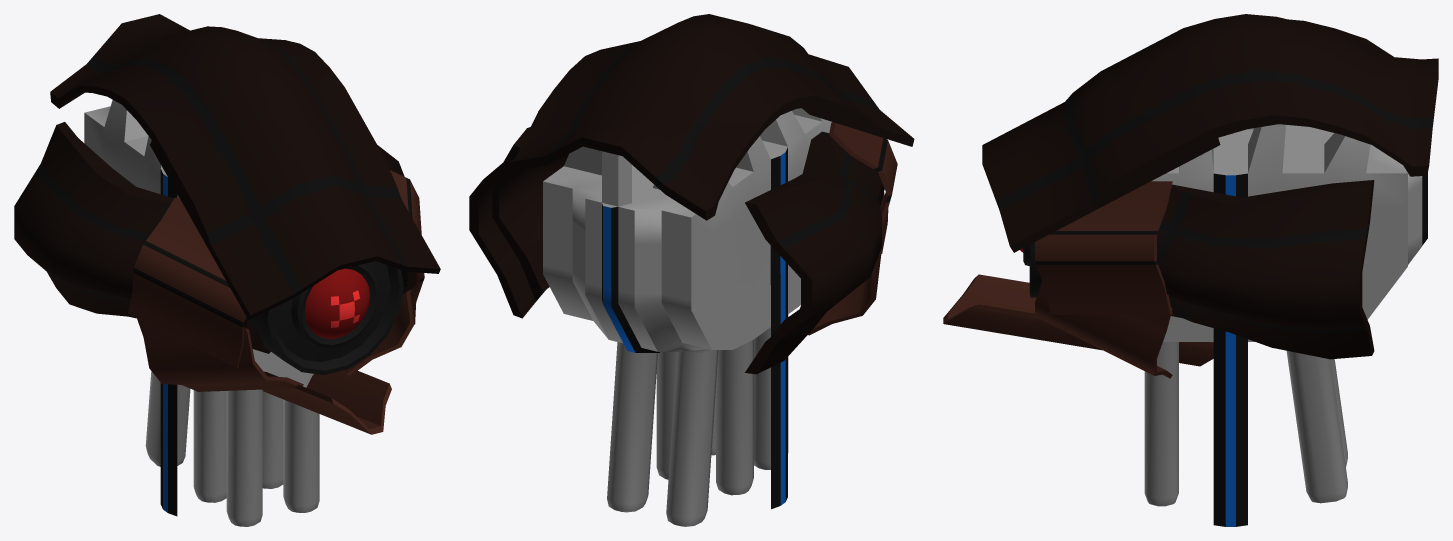
The model's file is CabezaEnemigo.FBX.
The picture shows the model from 3 angles, left to right: view 1: azimuth 30°, elevation 25°; view 2: azimuth 150°, elevation 25°; view 3: azimuth 270°, elevation 25°; orthographic projection. The views are drawn at different scales.
Parts seen in each view (by area): view 1: Box009; view 2: Box009; view 3: Box009.
Part boxes in pixels (x1,y1,x2,y2): Box009: [14, 14, 440, 526]; Box009: [469, 14, 914, 526]; Box009: [943, 14, 1438, 526].
Bounding box in the file's own units: 25.53 × 31.48 × 30.39.
